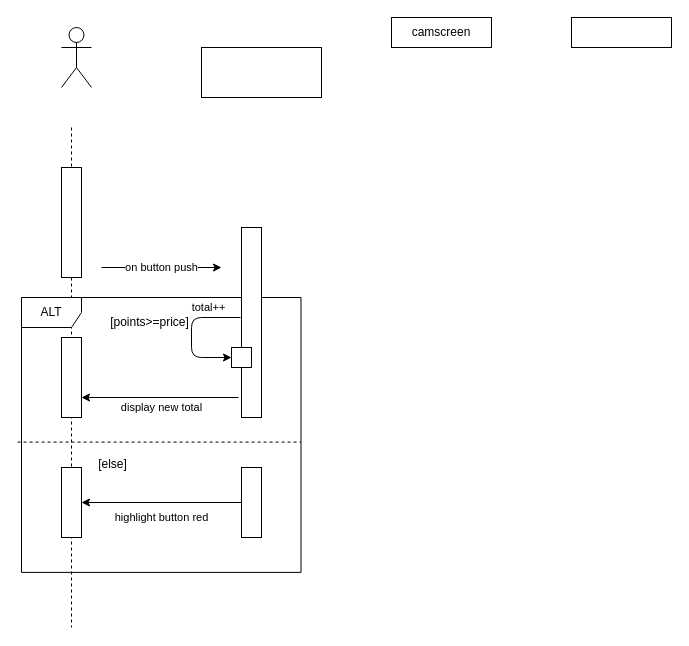
Image size: 689x646. Some labels were removed from this diagram. The shapes that lost their labels are listed below. From the top down, each one's centre as x and y in pixels, then its label:
At (76,57): "USER".
At (261,72): "mainscreen".
